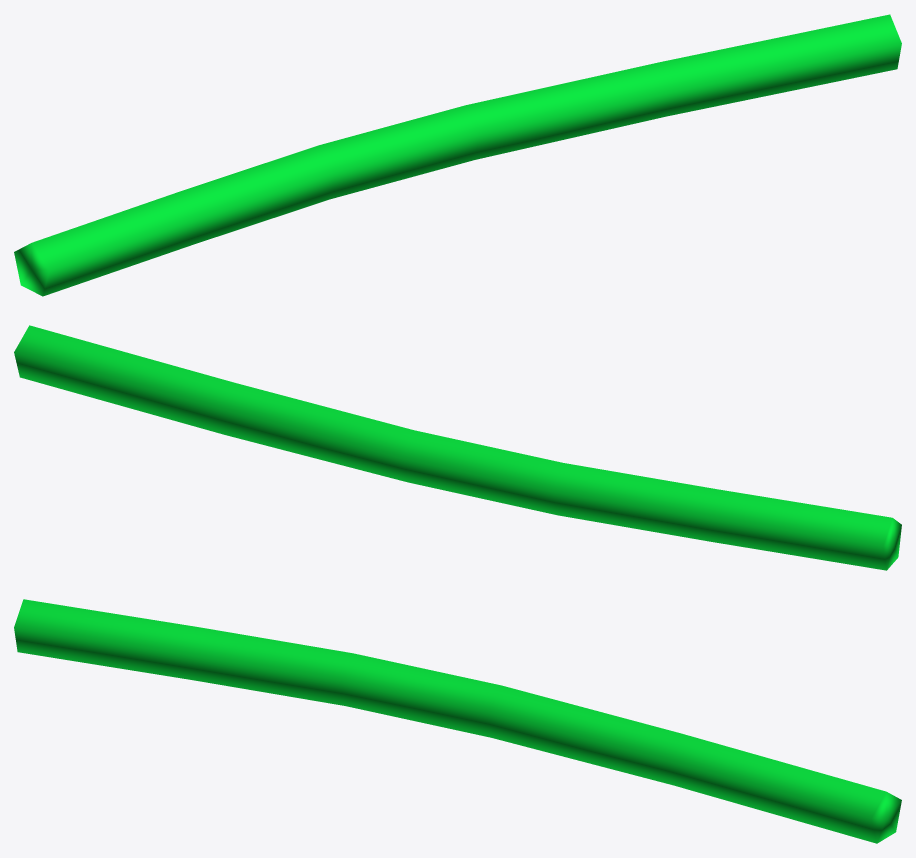
Rendered from Pipe_Turn_D_Ext.fbx.
3 renders of one model, top to bottom at view 1: azimuth 30°, elevation 25°; view 2: azimuth 150°, elevation 25°; view 3: azimuth 330°, elevation 25°, orthographic. The views are drawn at different scales.
Visible parts, largest first — view 1: Pipe_Turn_D_Ext; view 2: Pipe_Turn_D_Ext; view 3: Pipe_Turn_D_Ext.
Part boxes in pixels (box(x1,y1,x2,y2)): Pipe_Turn_D_Ext: box(14, 14, 901, 296); Pipe_Turn_D_Ext: box(14, 325, 901, 570); Pipe_Turn_D_Ext: box(14, 599, 901, 843).
Size of the model in its own units: 3.89 by 0.2062 by 0.4483.
